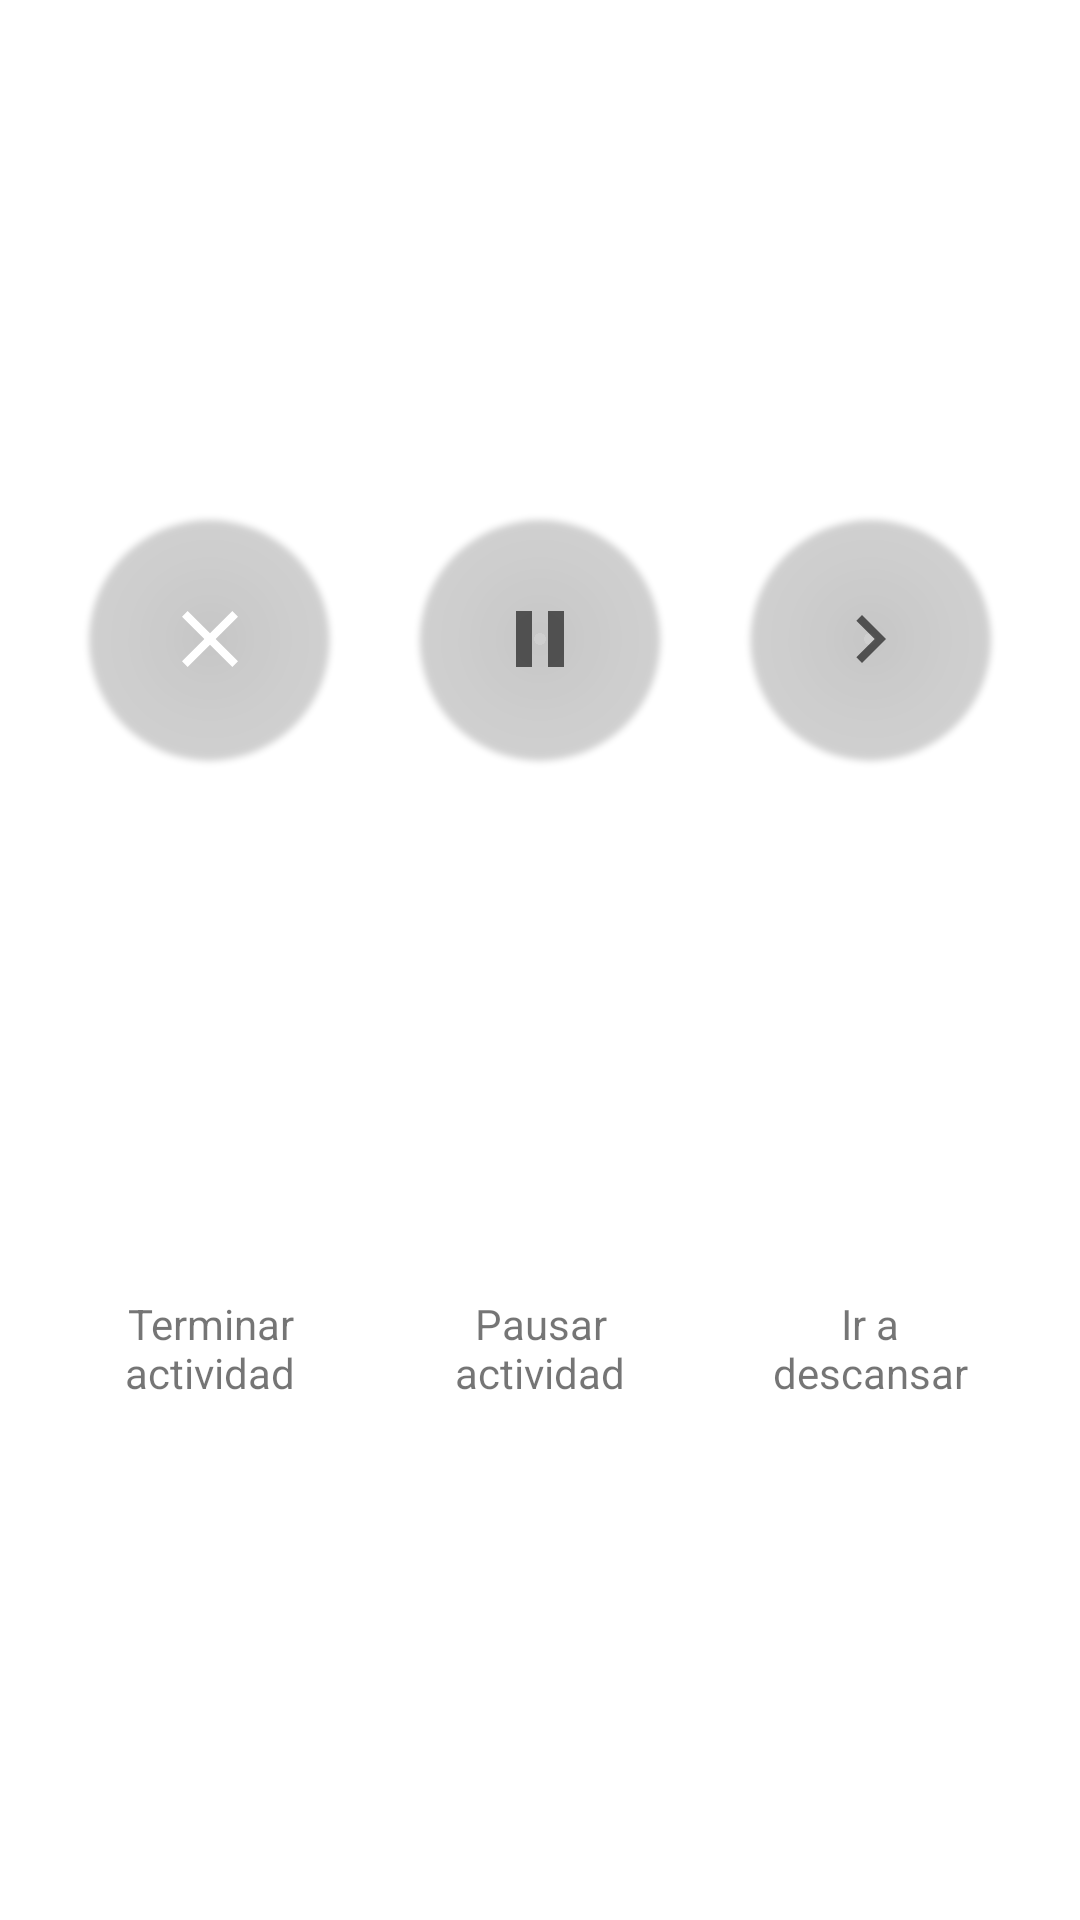

Locate icon controls on the screen. Image size 1080*1920, boxes as (x1=x1, y1=y1, x2=x2, y2=y2).
close: (x1=182, y1=611, x2=238, y2=667)
next: (x1=856, y1=615, x2=886, y2=663)
pause: (x1=516, y1=611, x2=564, y2=667)
